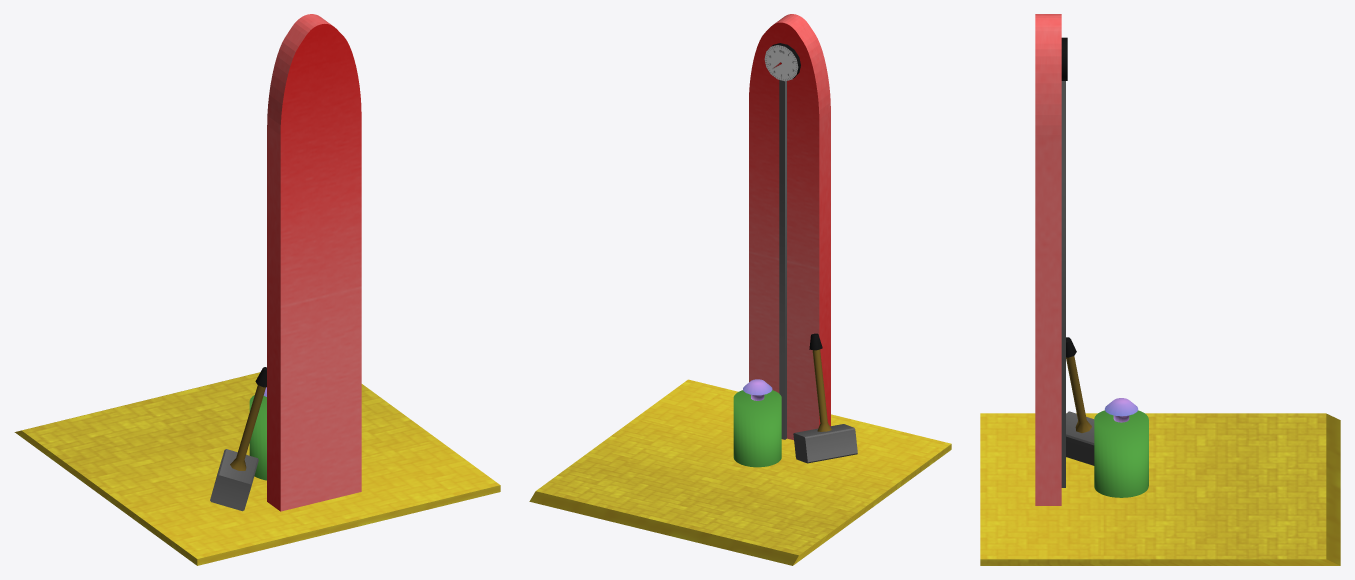
Rendered from ETC0210012.fbx.
3 views of the same model, side by side, from view 1: azimuth 30°, elevation 25°; view 2: azimuth 150°, elevation 25°; view 3: azimuth 270°, elevation 25° (orthographic). The views are drawn at different scales.
Visible parts, largest first — view 1: smETC0210012; view 2: smETC0210012; view 3: smETC0210012.
Part boxes in pixels (<box>): smETC0210012: <box>14,14,500,565</box>; smETC0210012: <box>529,14,951,565</box>; smETC0210012: <box>980,14,1340,565</box>.
Bounding box in the file's own units: 232 × 354 × 242.
Materials: 1 (1 with a texture image).
